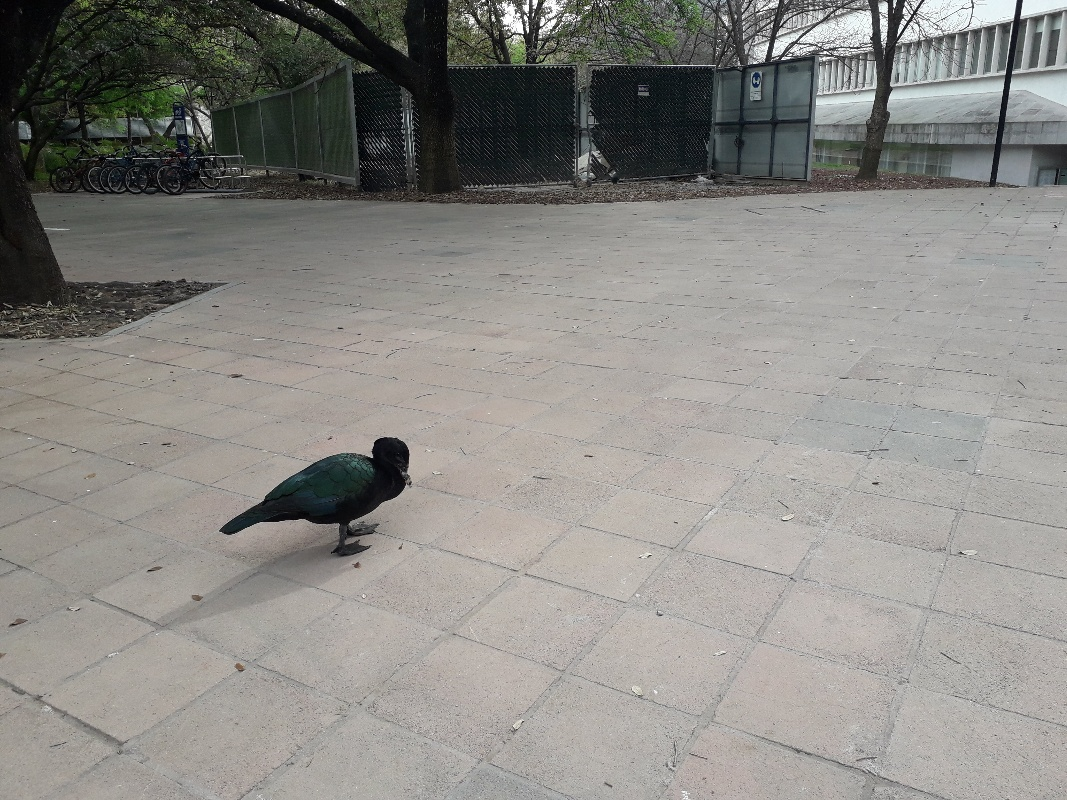pato: (227, 431, 417, 562)
